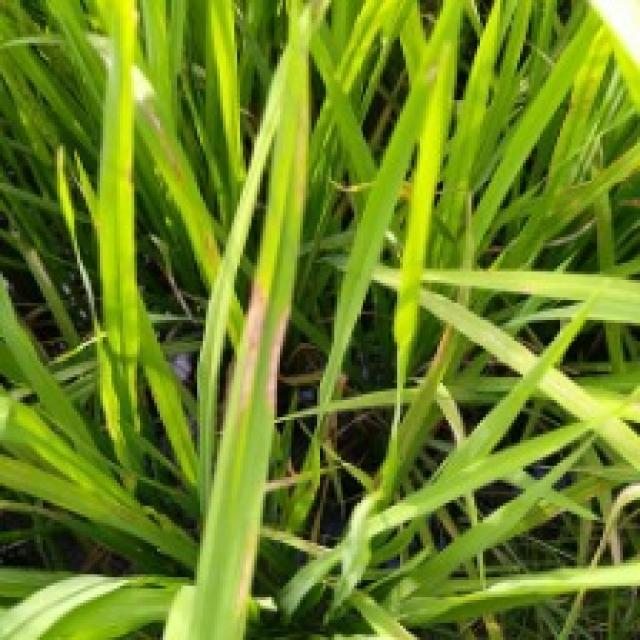Rice___Rice_Blast: (183, 1, 314, 637)
